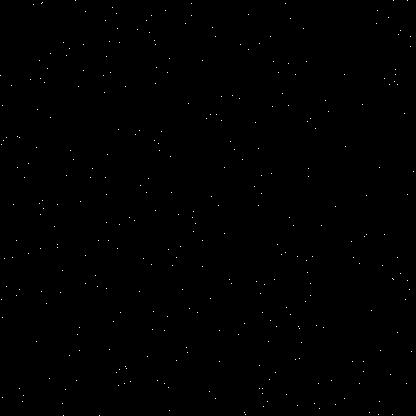Others: (52, 34, 390, 286)
